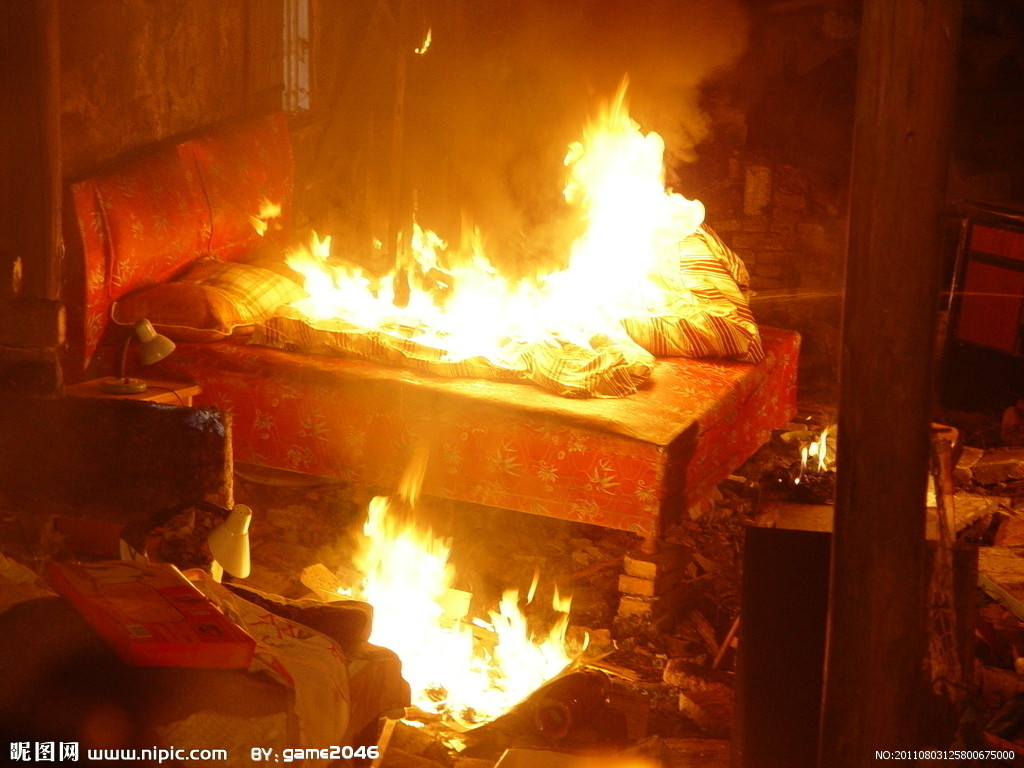fire: (296, 74, 720, 368), (318, 471, 595, 720), (789, 424, 836, 480)
